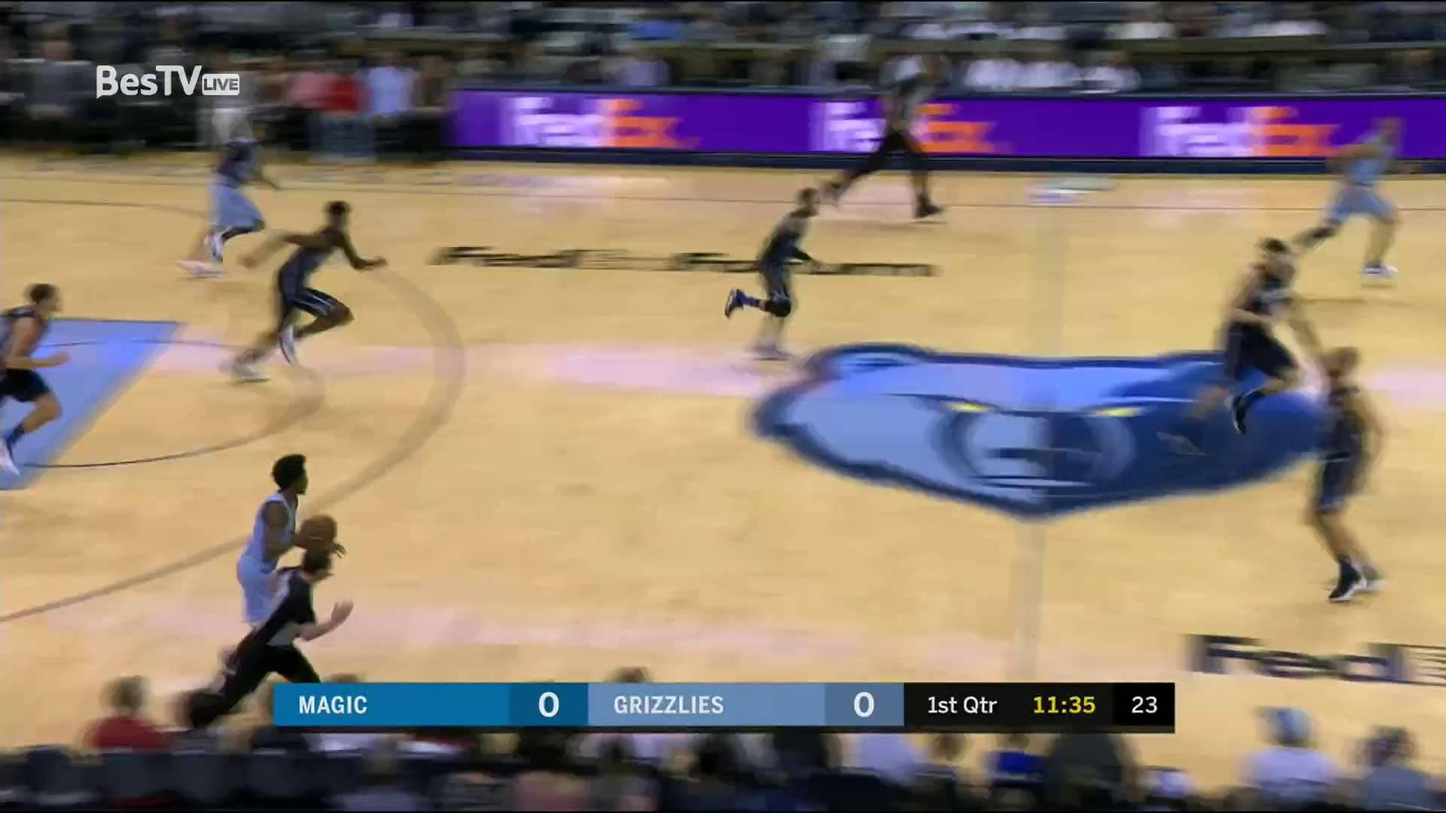basketball: (301, 513, 340, 544)
